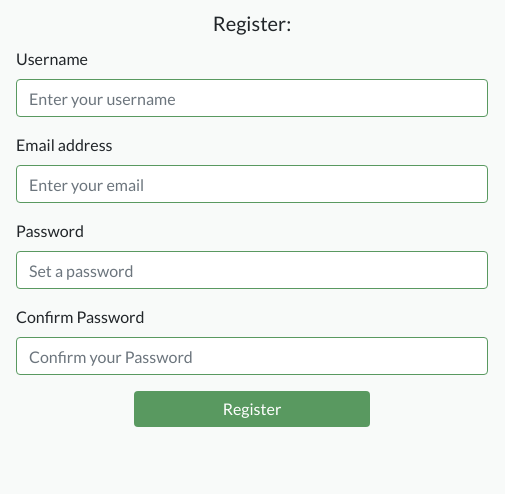
Test: RegisterForm › displays error message if registration fails
The width and height of the screenshot is (505, 494).
Click the button "Register" at [252, 409], box [134, 391, 370, 427]
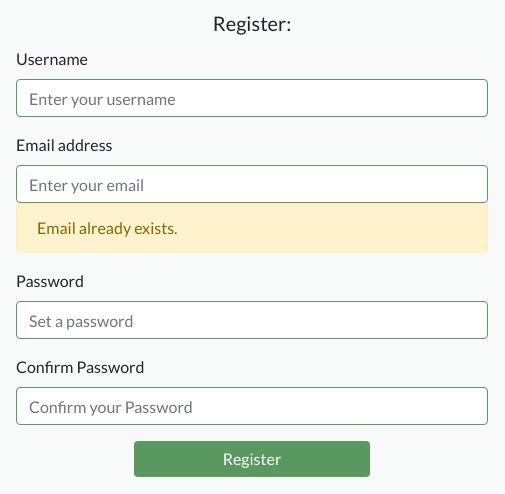
Expected: the text "Email already exists." is shown, [16, 203, 488, 253]
